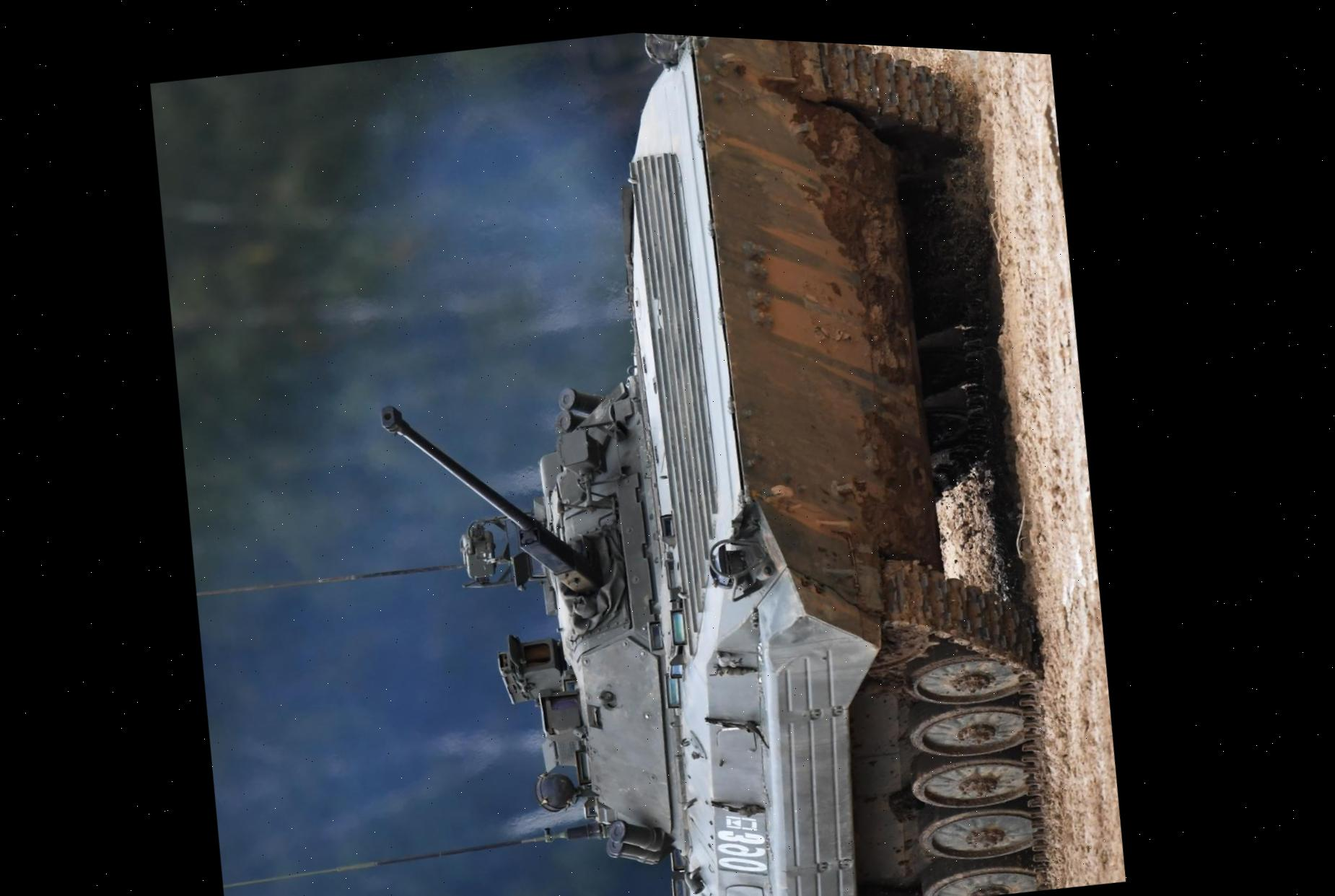tank: (287, 18, 1119, 896)
